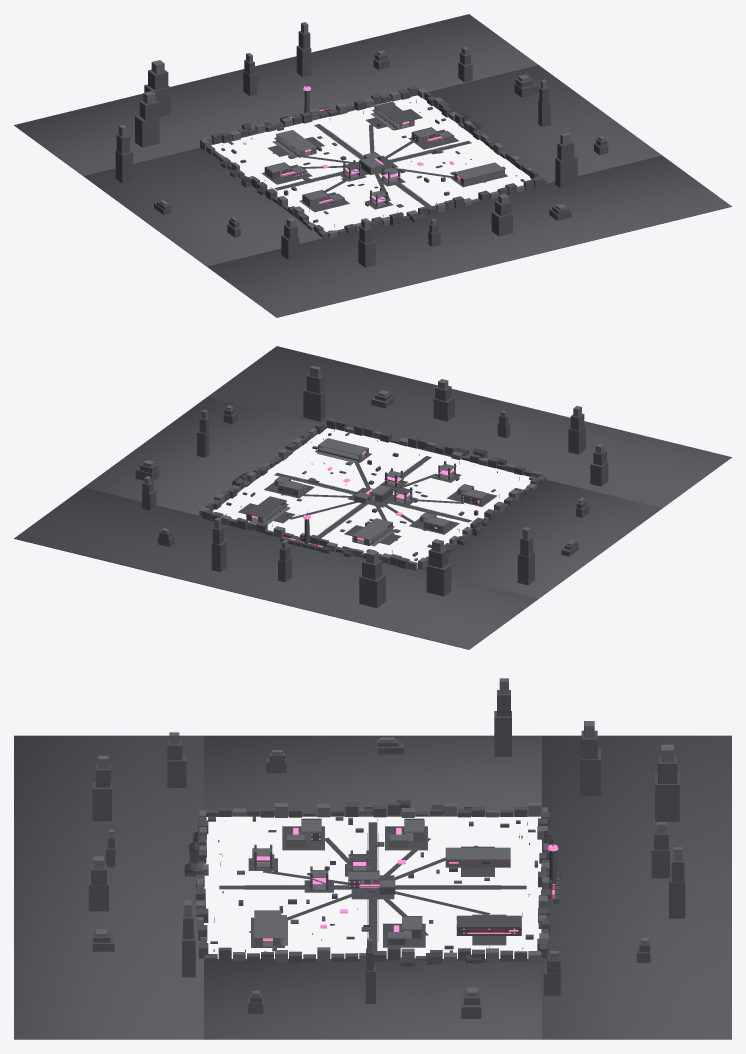
The model's file is yoichi-lod1.glb.
3 views of the same model, one above another, from view 1: azimuth 30°, elevation 25°; view 2: azimuth 150°, elevation 25°; view 3: azimuth 270°, elevation 25° (orthographic). The views are drawn at different scales.
Parts seen in each view (by area): view 1: HB_yoichi_LOD1_terrain, HB_yoichi_LOD1_wall_alt, HB_yoichi_LOD1_wall, HB_yoichi_LOD1_road, HB_yoichi_LOD1_obstacle, HB_yoichi_LOD1_trim, HB_yoichi_LOD1_emissive; view 2: HB_yoichi_LOD1_terrain, HB_yoichi_LOD1_wall_alt, HB_yoichi_LOD1_wall, HB_yoichi_LOD1_road, HB_yoichi_LOD1_obstacle, HB_yoichi_LOD1_trim; view 3: HB_yoichi_LOD1_terrain, HB_yoichi_LOD1_wall_alt, HB_yoichi_LOD1_wall, HB_yoichi_LOD1_road, HB_yoichi_LOD1_trim, HB_yoichi_LOD1_obstacle, HB_yoichi_LOD1_emissive, HB_yoichi_LOD1_glass.
Part boxes in pixels (<box>): HB_yoichi_LOD1_terrain: <box>14,14,731,317</box>; HB_yoichi_LOD1_wall_alt: <box>115,31,608,267</box>; HB_yoichi_LOD1_wall: <box>118,22,605,237</box>; HB_yoichi_LOD1_road: <box>263,110,507,212</box>; HB_yoichi_LOD1_obstacle: <box>221,102,524,231</box>; HB_yoichi_LOD1_trim: <box>220,83,504,227</box>; HB_yoichi_LOD1_emissive: <box>222,86,515,215</box>; HB_yoichi_LOD1_terrain: <box>14,346,731,649</box>; HB_yoichi_LOD1_wall_alt: <box>135,374,608,607</box>; HB_yoichi_LOD1_wall: <box>143,365,604,570</box>; HB_yoichi_LOD1_road: <box>238,447,495,545</box>; HB_yoichi_LOD1_obstacle: <box>226,432,536,560</box>; HB_yoichi_LOD1_trim: <box>232,440,519,554</box>; HB_yoichi_LOD1_terrain: <box>14,735,731,1039</box>; HB_yoichi_LOD1_wall_alt: <box>88,690,685,1018</box>; HB_yoichi_LOD1_wall: <box>93,678,682,996</box>; HB_yoichi_LOD1_road: <box>219,822,526,950</box>; HB_yoichi_LOD1_trim: <box>184,800,561,965</box>; HB_yoichi_LOD1_obstacle: <box>208,816,537,952</box>; HB_yoichi_LOD1_emissive: <box>215,814,558,951</box>; HB_yoichi_LOD1_glass: <box>196,826,521,964</box>.
Size of the model in its own units: 642 by 73.01 by 642.
Materials: 10 (7 with a texture image).
